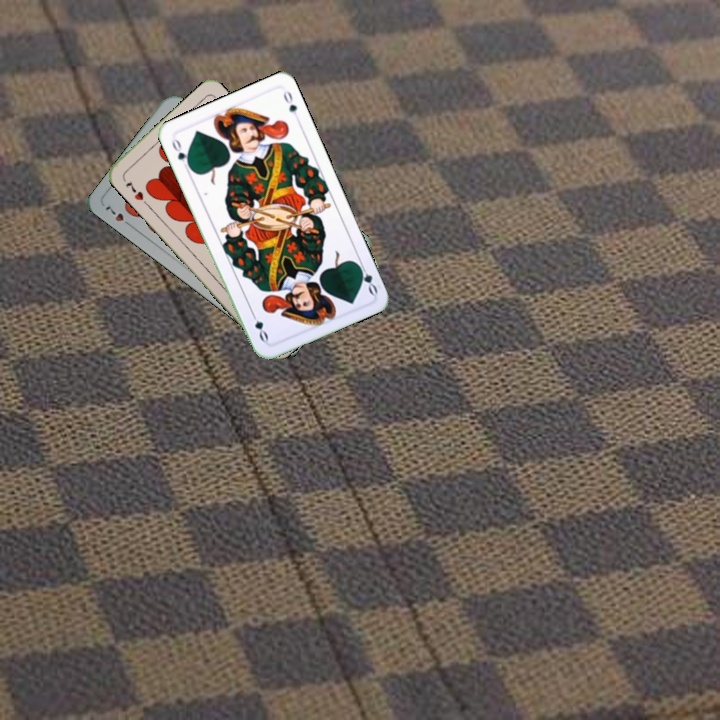GO: (353, 258, 380, 297), (168, 134, 194, 173)
H7: (101, 202, 135, 230), (122, 176, 146, 203)
